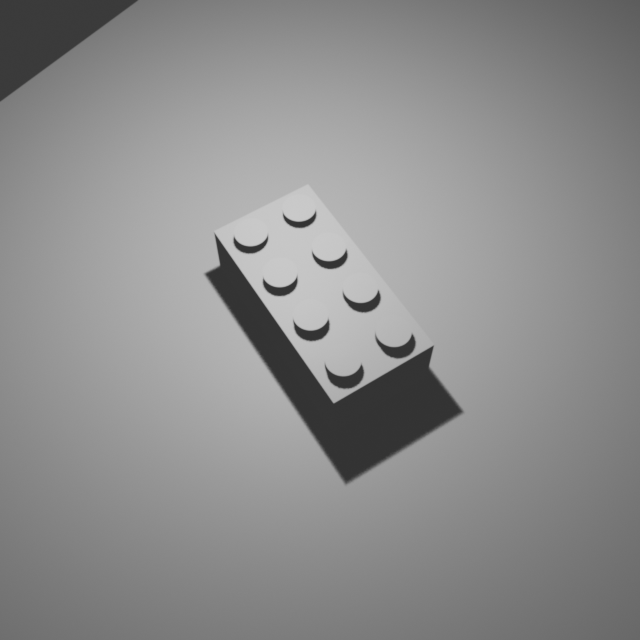lego_2x4: (213, 177, 436, 432)
